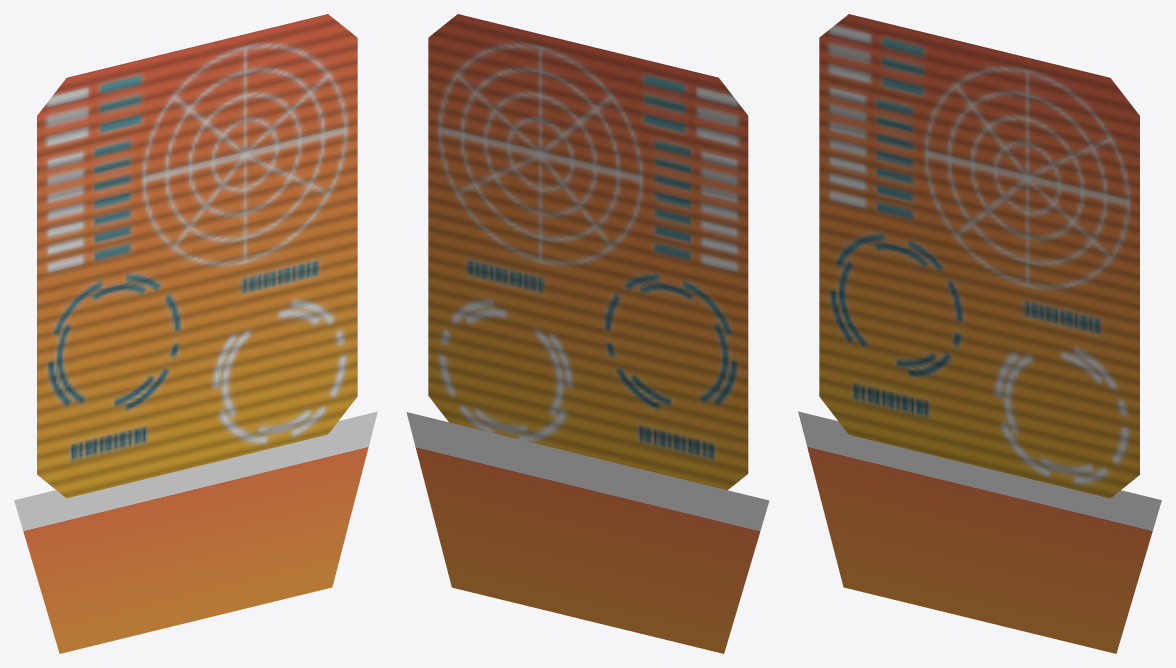
The model's file is Terminal_008_monitor_004.fbx.
3 renders of one model, left to right at view 1: azimuth 30°, elevation 25°; view 2: azimuth 150°, elevation 25°; view 3: azimuth 330°, elevation 25°, orthographic.
Visible parts, largest first — view 1: Terminal_008_monitor_004; view 2: Terminal_008_monitor_004; view 3: Terminal_008_monitor_004.
Boxes of the visible parts, x1,y1,x2,y2 form: Terminal_008_monitor_004: (14, 14, 377, 653); Terminal_008_monitor_004: (406, 14, 769, 653); Terminal_008_monitor_004: (798, 14, 1161, 653).
Bounding box in the file's own units: 48.79 × 0.1945 × 73.73.
